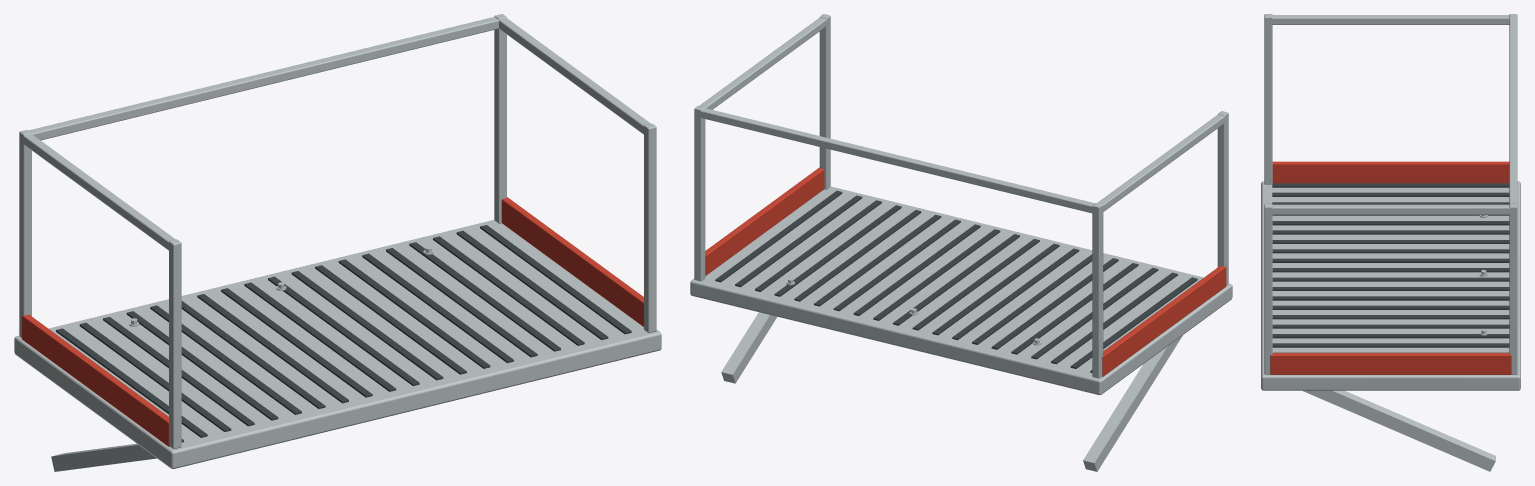
Rendered from broadcast-tower-and-relay-station-broadcast-tower-and--ea29ce88__30253.glb.
3 renders of one model, left to right at view 1: azimuth 30°, elevation 25°; view 2: azimuth 150°, elevation 25°; view 3: azimuth 270°, elevation 25°, orthographic. The views are drawn at different scales.
Parts seen in each view (by area): view 1: broadcast-tower-and-relay-station-tower-service-platform; view 2: broadcast-tower-and-relay-station-tower-service-platform; view 3: broadcast-tower-and-relay-station-tower-service-platform.
Part boxes in pixels (left/top/right/bottom): broadcast-tower-and-relay-station-tower-service-platform: left=14, top=14, right=661, bottom=471; broadcast-tower-and-relay-station-tower-service-platform: left=690, top=14, right=1232, bottom=471; broadcast-tower-and-relay-station-tower-service-platform: left=1261, top=14, right=1520, bottom=471.
Bounding box in the file's own units: 2.5 × 1.62 × 1.4.
